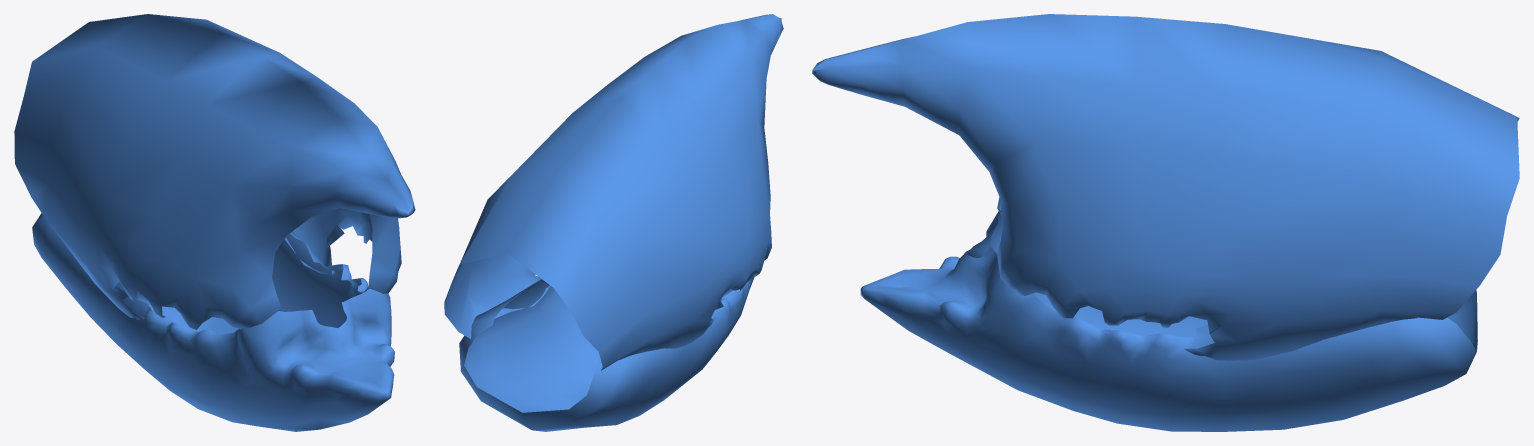
Rendered from Shrimp_Body_Cherry.fbx.
The picture shows the model from 3 angles, left to right: view 1: azimuth 30°, elevation 25°; view 2: azimuth 150°, elevation 25°; view 3: azimuth 270°, elevation 25°; orthographic projection. The views are drawn at different scales.
Visible parts, largest first — view 1: back_low, stomach_low; view 2: back_low, stomach_low; view 3: back_low, stomach_low.
Part boxes in pixels (<box>): back_low: <box>14,14,415,329</box>; stomach_low: <box>32,213,394,431</box>; back_low: <box>444,14,783,370</box>; stomach_low: <box>459,276,754,431</box>; back_low: <box>812,14,1519,360</box>; stomach_low: <box>860,209,1477,431</box>.
Size of the model in its own units: 38.43 by 54.52 by 85.44.
